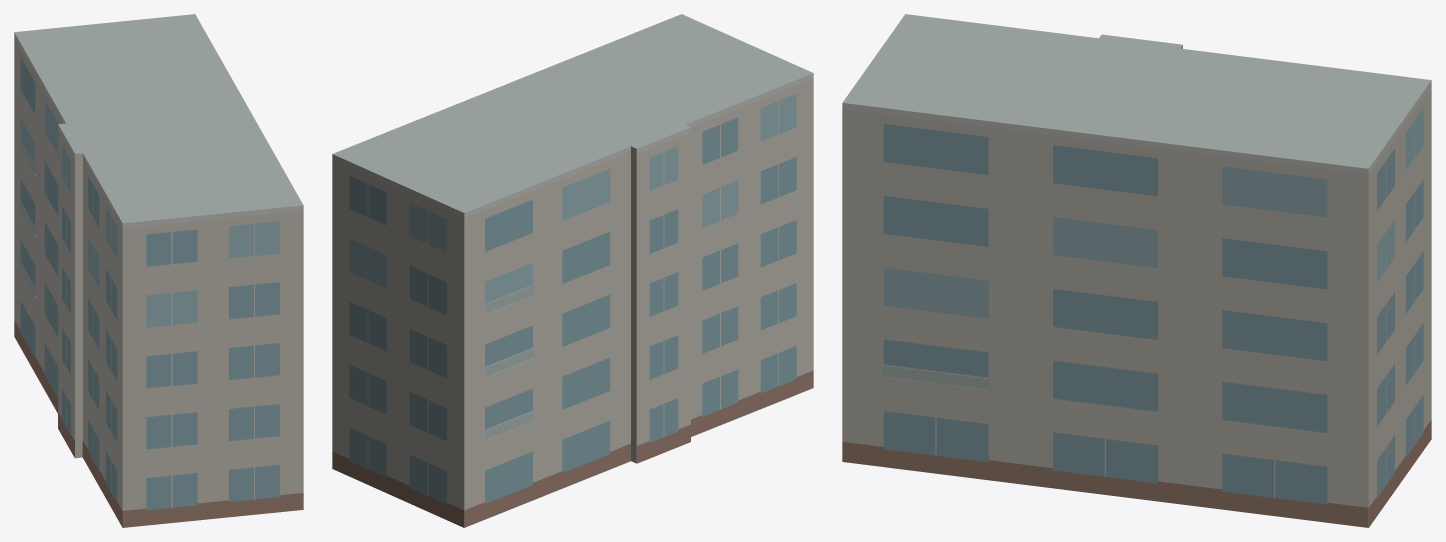
File: survey-upis-32868108.glb
3 renders of one model, left to right at view 1: azimuth 30°, elevation 25°; view 2: azimuth 150°, elevation 25°; view 3: azimuth 270°, elevation 25°, orthographic. The views are drawn at different scales.
Parts seen in each view (by area): view 1: survey-upis-32868108.tmp; view 2: survey-upis-32868108.tmp; view 3: survey-upis-32868108.tmp.
Part boxes in pixels (left/top/right/bottom): survey-upis-32868108.tmp: left=14, top=14, right=303, bottom=527; survey-upis-32868108.tmp: left=332, top=14, right=813, bottom=527; survey-upis-32868108.tmp: left=842, top=14, right=1431, bottom=527.
Size of the model in its own units: 13.46 by 14.55 by 21.65.
